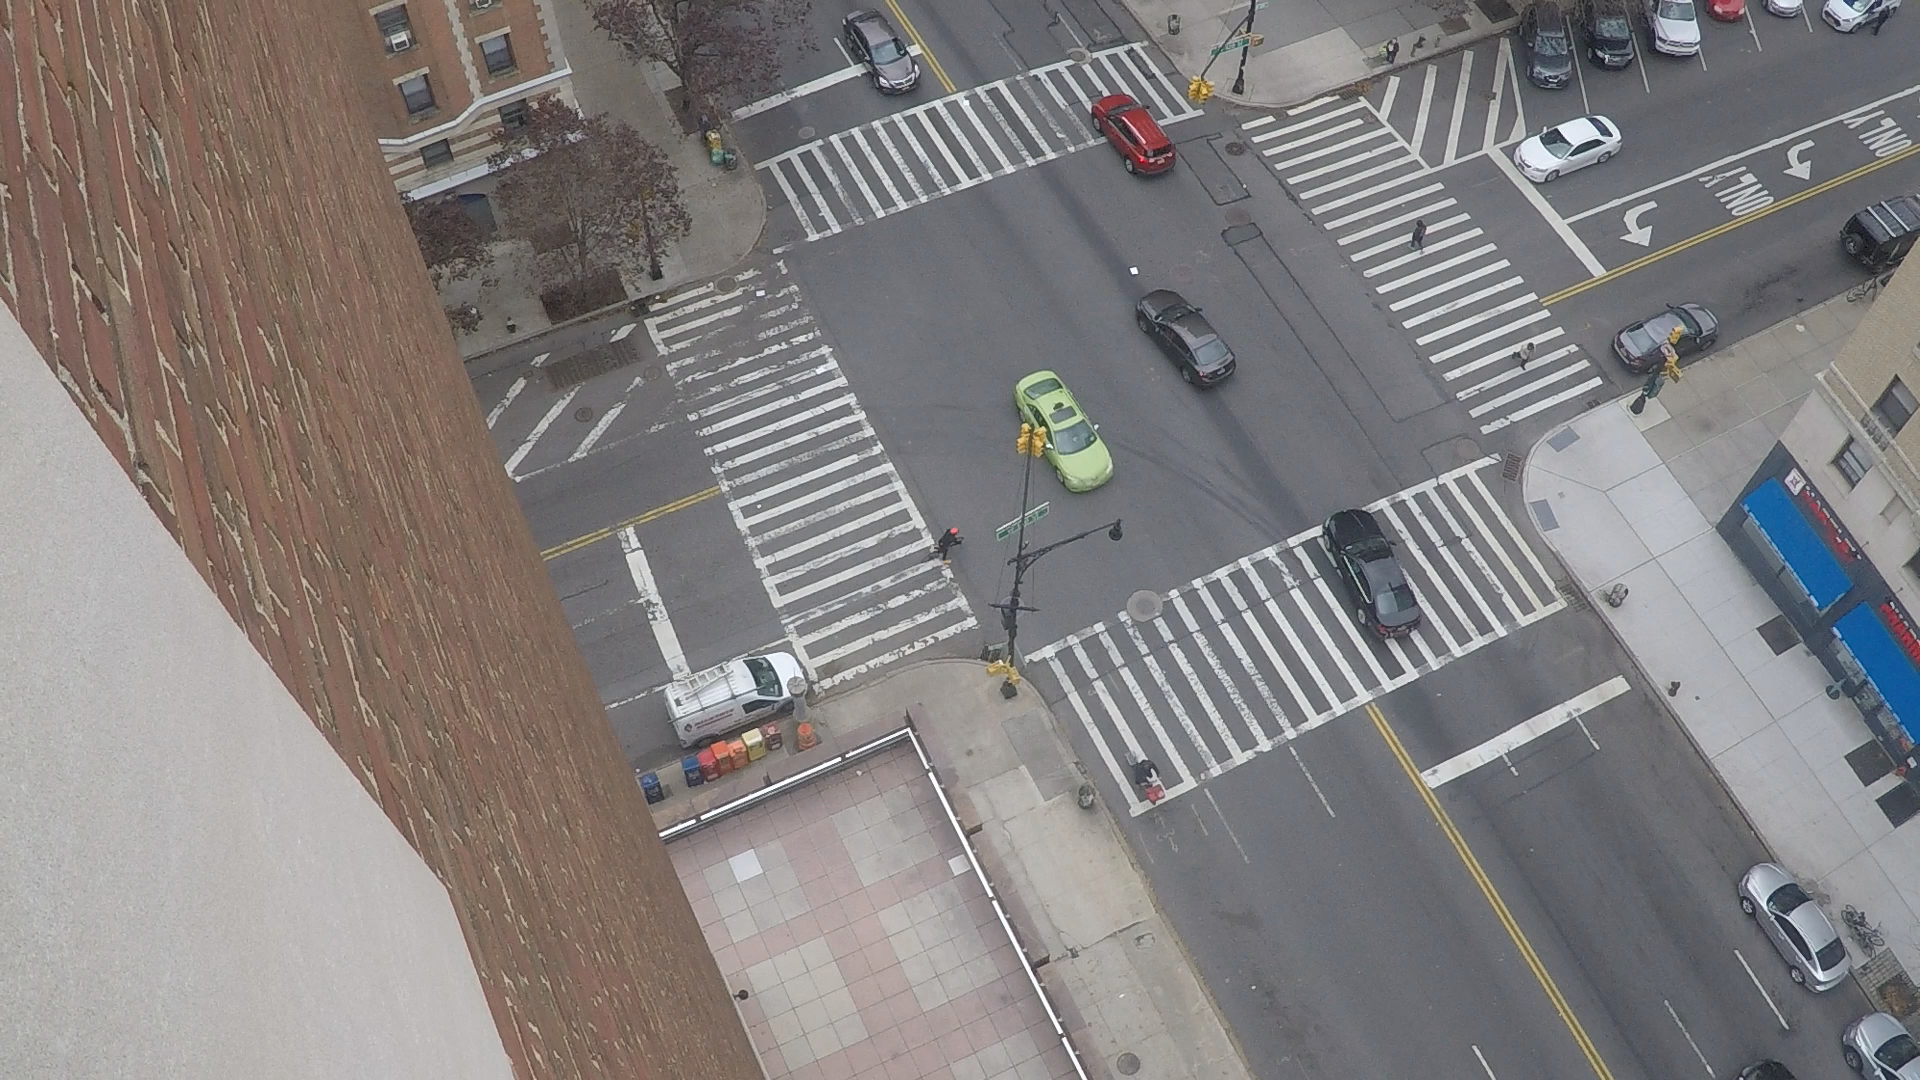Car: (899, 36, 905, 44), (1635, 0, 1636, 18), (1760, 0, 1762, 8)
